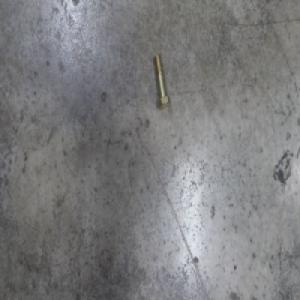Bolt: (153, 53, 170, 110)
